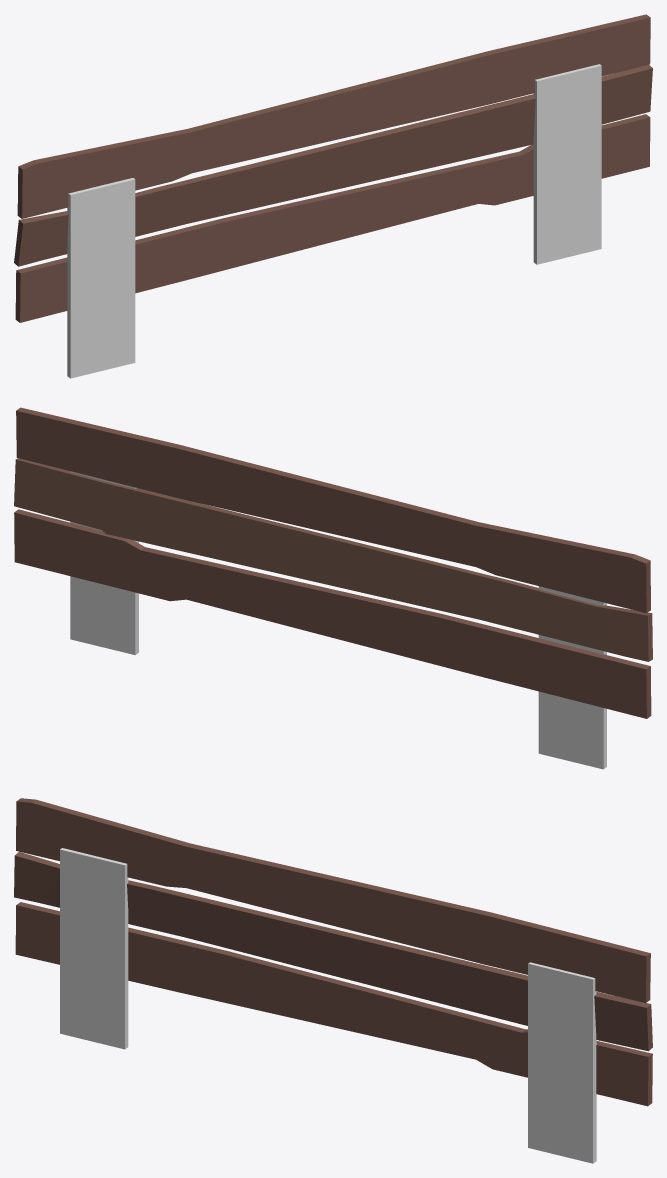
File: random barrier.fbx
3 views of the same model, one above another, from view 1: azimuth 30°, elevation 25°; view 2: azimuth 150°, elevation 25°; view 3: azimuth 330°, elevation 25° (orthographic).
Visible parts, largest first — view 1: Dock_Long_NoRope, Cube; view 2: Dock_Long_NoRope, Cube; view 3: Dock_Long_NoRope, Cube.
Boxes of the visible parts, bbox=[...] form: Dock_Long_NoRope: bbox=[14, 14, 652, 322]; Cube: bbox=[67, 64, 601, 378]; Dock_Long_NoRope: bbox=[14, 407, 652, 718]; Cube: bbox=[70, 471, 606, 769]; Dock_Long_NoRope: bbox=[14, 798, 652, 1106]; Cube: bbox=[60, 848, 596, 1163].
Bounding box in the file's own units: 1364 × 455 × 29.55.
